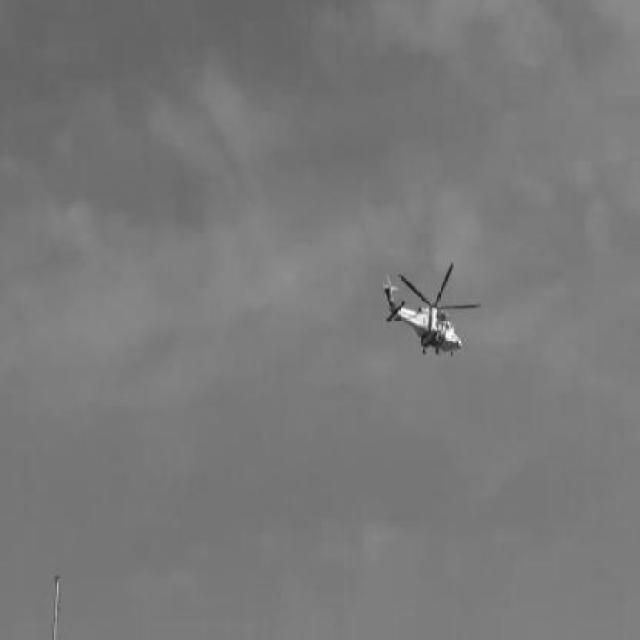helikopter: (383, 264, 480, 358)
